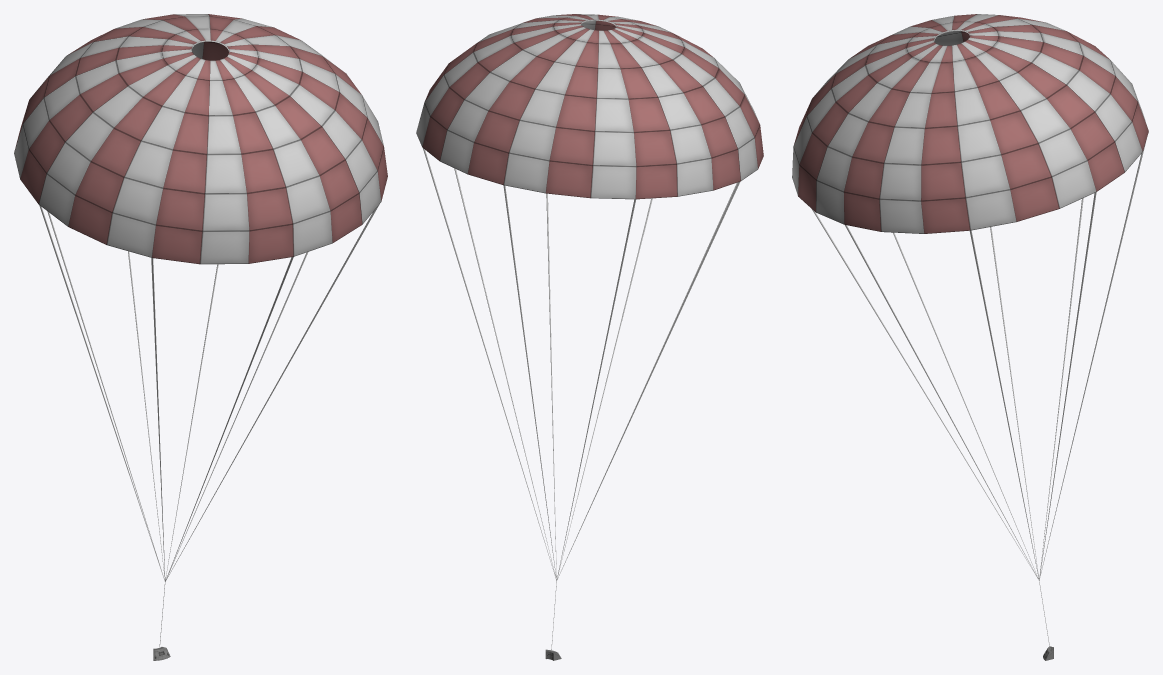
Rendered from Apollo_Block2_Parachute.dae.
3 views of the same model, side by side, from view 1: azimuth 30°, elevation 25°; view 2: azimuth 150°, elevation 25°; view 3: azimuth 270°, elevation 25° (orthographic). The views are drawn at different scales.
Parts seen in each view (by area): view 1: group77; view 2: group77; view 3: group77.
Boxes of the visible parts, <box> form: group77: <box>14,14,387,648</box>; group77: <box>416,14,763,650</box>; group77: <box>792,14,1148,648</box>.
Size of what is drawn, in the model's own units: 11.38 by 21.67 by 11.27.
